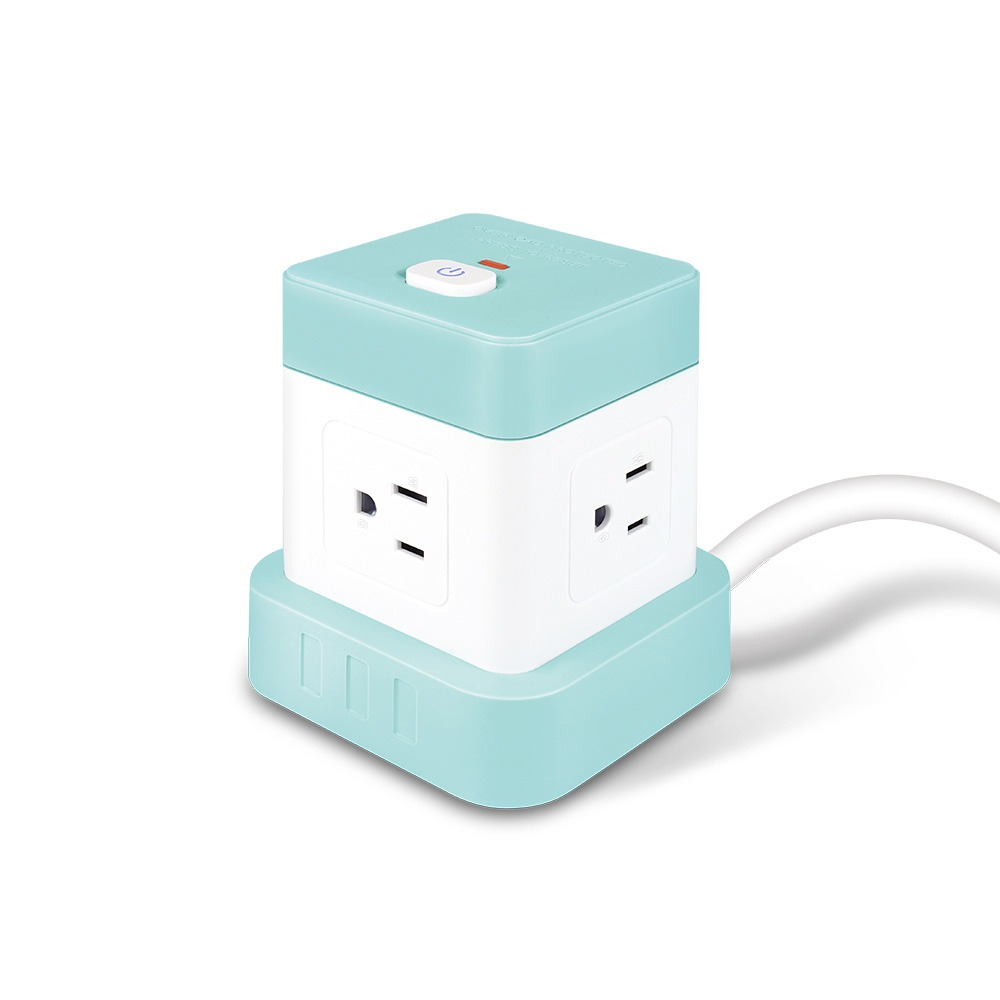socket: (245, 213, 1000, 811)
